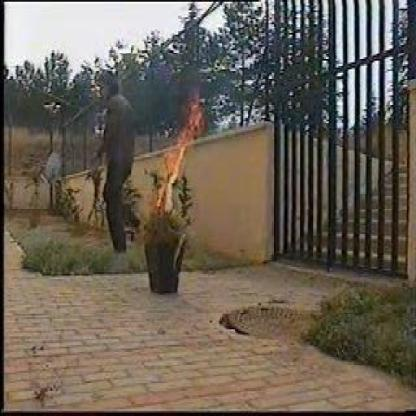foggia-v2-map80-epoch100 - v1 4323: (153, 105, 203, 217)
